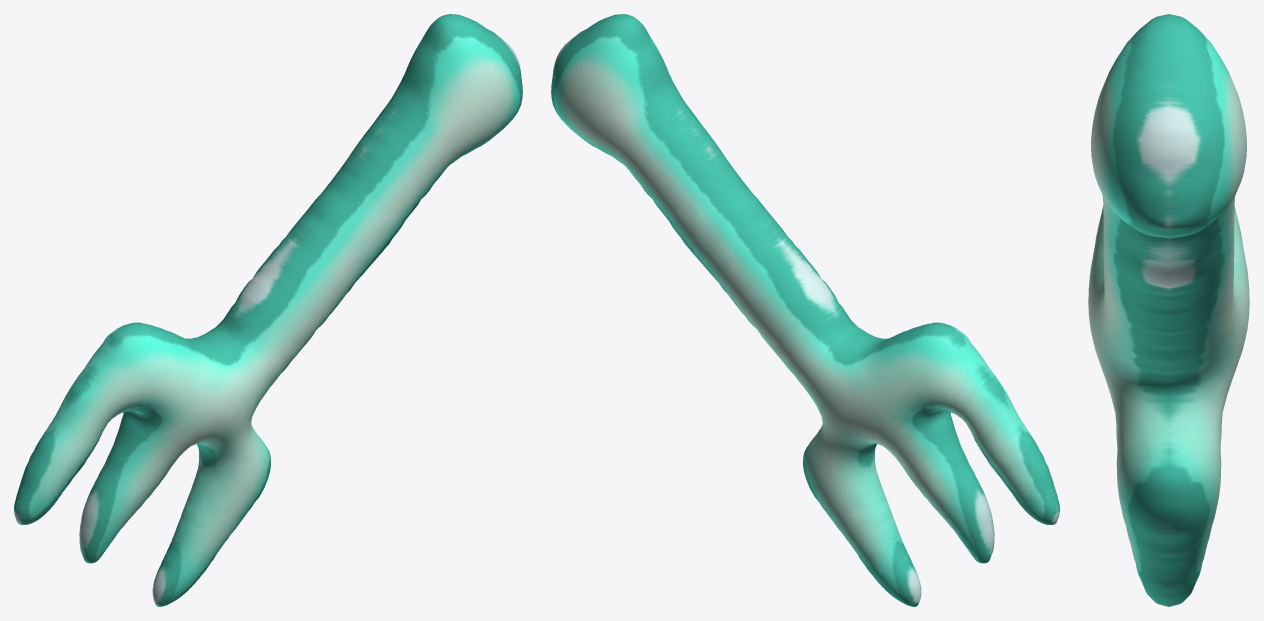
File: fork.glb
3 views of the same model, side by side, from view 1: azimuth 30°, elevation 25°; view 2: azimuth 150°, elevation 25°; view 3: azimuth 270°, elevation 25° (orthographic). The views are drawn at different scales.
Size of the model in its own units: 7.23 by 7.14 by 1.29.
Materials: 1 (1 with a texture image).
